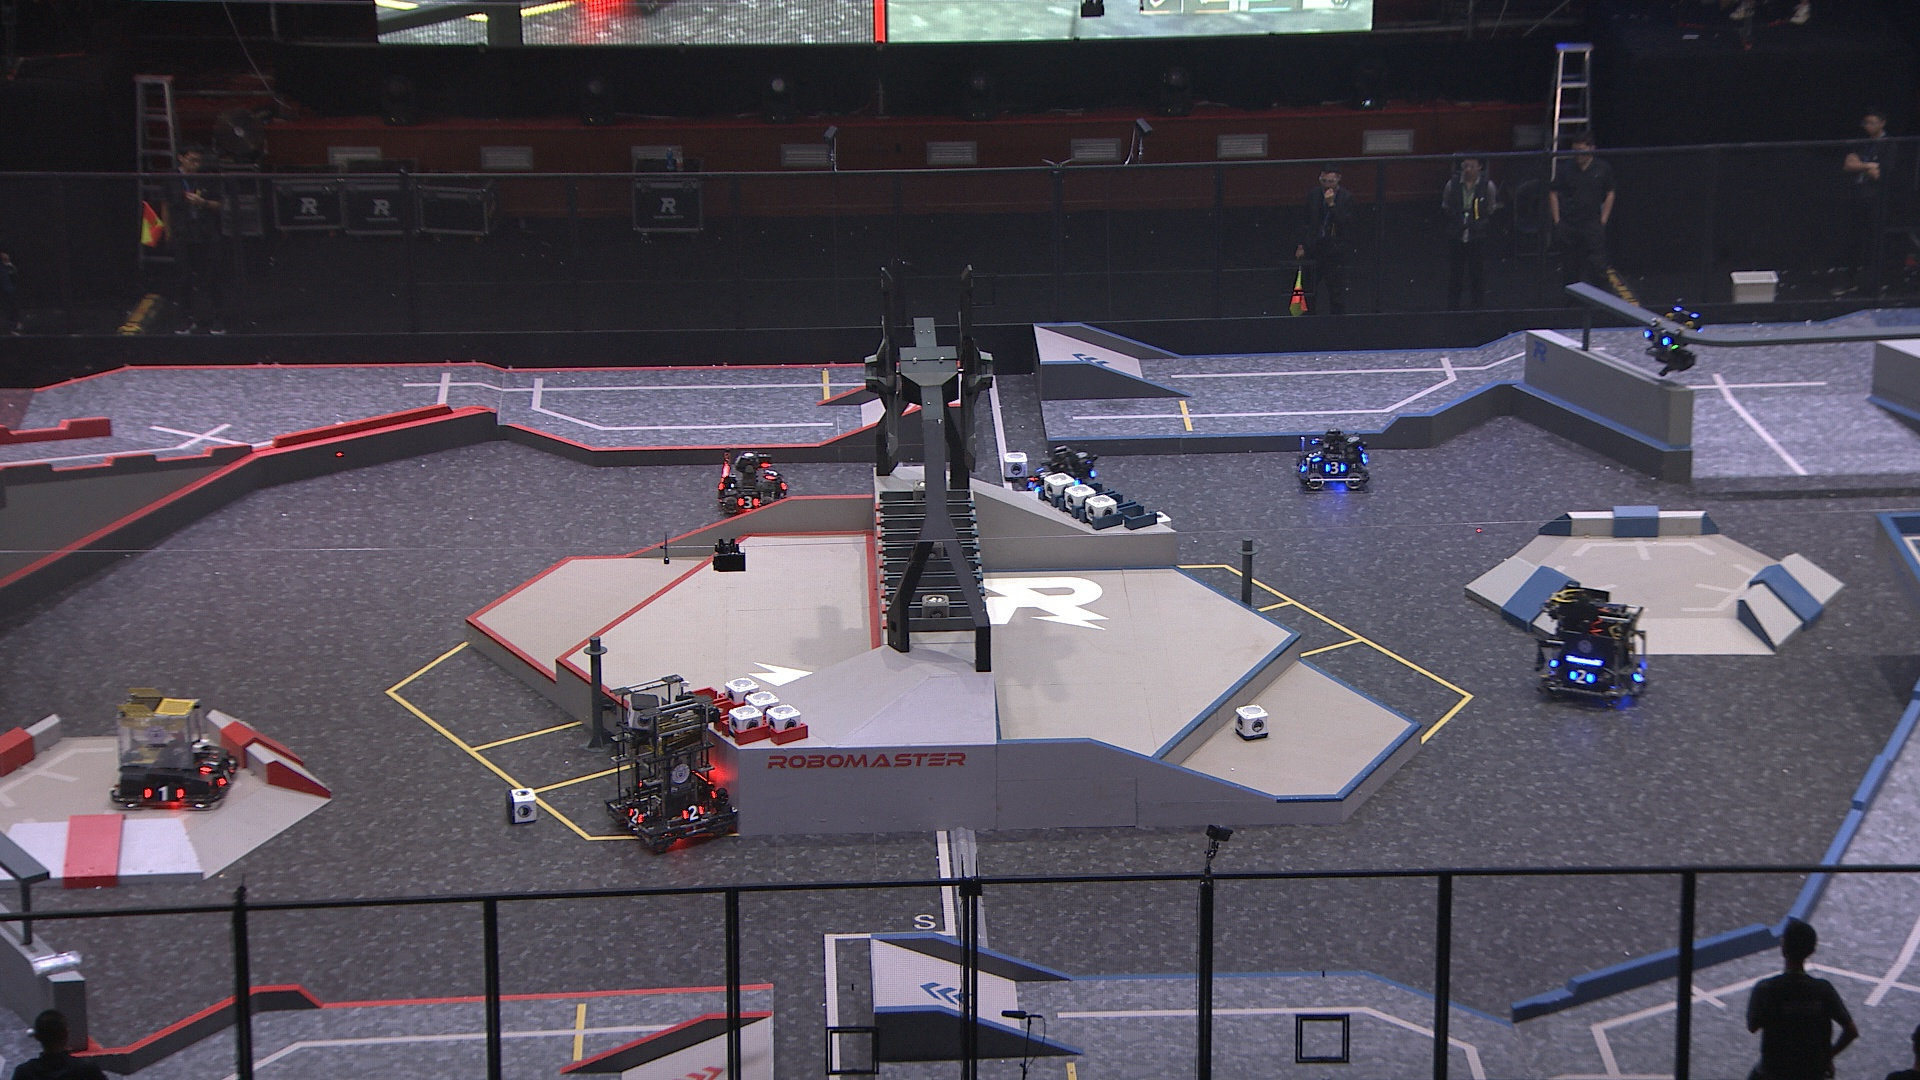armor: (138, 783, 189, 804), (1640, 324, 1673, 349), (216, 761, 237, 789), (678, 803, 707, 823), (626, 803, 647, 828), (199, 752, 222, 774), (1569, 669, 1596, 687), (1631, 659, 1650, 683), (735, 493, 760, 510), (760, 465, 782, 481), (1324, 460, 1346, 476), (1298, 455, 1313, 477), (1034, 465, 1054, 481), (1025, 475, 1040, 493), (1307, 446, 1323, 463)
car: (603, 671, 746, 849), (109, 684, 240, 816), (1534, 583, 1654, 705), (1015, 442, 1102, 512), (1290, 427, 1367, 495), (716, 450, 789, 518)
watcher: (1636, 295, 1705, 378)
